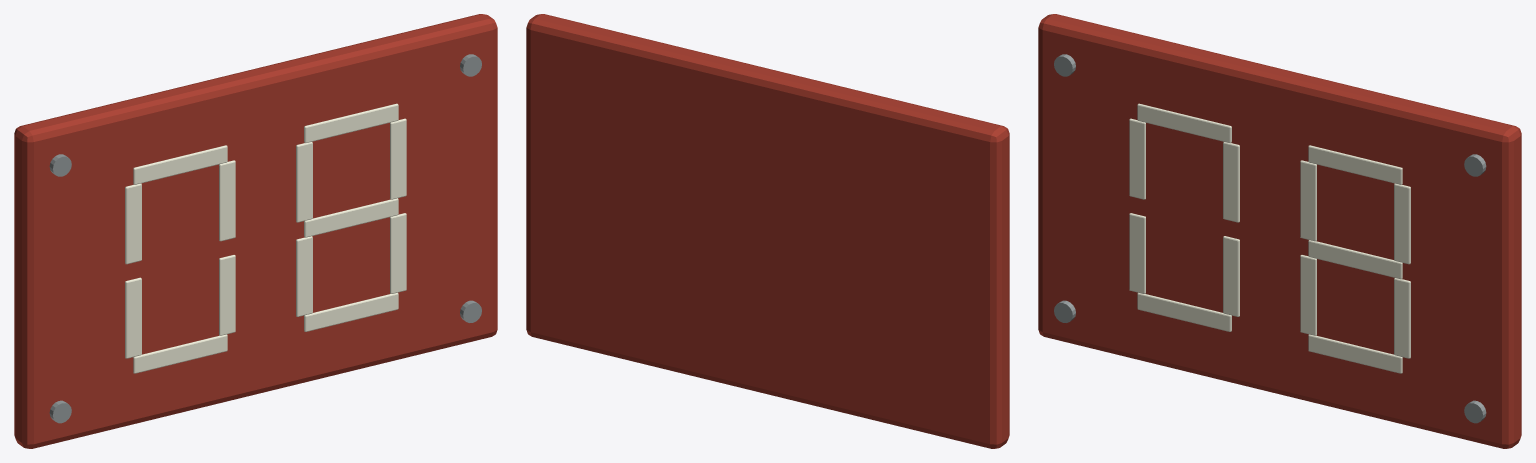
Rendered from source-edit.glb.
3 views of the same model, side by side, from view 1: azimuth 30°, elevation 25°; view 2: azimuth 150°, elevation 25°; view 3: azimuth 330°, elevation 25° (orthographic).
Visible parts, largest first — view 1: PLATE, DIGIT_Right_a, DIGIT_Left_a, DIGIT_Left_d, DIGIT_Right_d, DIGIT_Right_g, DIGIT_Left_e, DIGIT_Left_c, DIGIT_Right_e, DIGIT_Left_f, DIGIT_Right_f, DIGIT_Right_b (+2 smaller); view 2: PLATE; view 3: PLATE, DIGIT_Left_a, DIGIT_Right_a, DIGIT_Right_g, DIGIT_Right_d, DIGIT_Left_d, DIGIT_Left_c, DIGIT_Left_e, DIGIT_Right_c, DIGIT_Left_b, DIGIT_Right_b, DIGIT_Right_e (+2 smaller).
Boxes of the visible parts, x1,y1,x2,y2 form: PLATE: [14, 14, 497, 448]; DIGIT_Right_a: [304, 103, 398, 143]; DIGIT_Left_a: [133, 145, 227, 184]; DIGIT_Left_d: [133, 334, 227, 373]; DIGIT_Right_d: [304, 292, 398, 331]; DIGIT_Right_g: [304, 198, 398, 237]; DIGIT_Left_e: [125, 277, 141, 358]; DIGIT_Left_c: [219, 255, 235, 335]; DIGIT_Right_e: [296, 236, 312, 316]; DIGIT_Left_f: [125, 183, 141, 264]; DIGIT_Right_f: [296, 142, 312, 222]; DIGIT_Right_b: [390, 118, 406, 199]; PLATE: [526, 14, 1009, 448]; PLATE: [1038, 14, 1521, 448]; DIGIT_Left_a: [1137, 103, 1231, 143]; DIGIT_Right_a: [1308, 145, 1402, 184]; DIGIT_Right_g: [1308, 240, 1402, 279]; DIGIT_Right_d: [1308, 334, 1402, 373]; DIGIT_Left_d: [1137, 292, 1231, 331]; DIGIT_Left_c: [1223, 236, 1239, 316]; DIGIT_Left_e: [1129, 213, 1145, 293]; DIGIT_Right_c: [1394, 278, 1410, 358]; DIGIT_Left_b: [1223, 142, 1239, 222]; DIGIT_Right_b: [1394, 183, 1410, 264]; DIGIT_Right_e: [1300, 255, 1316, 335].
Size of the model in its own units: 0.25 by 0.16 by 0.0175.
